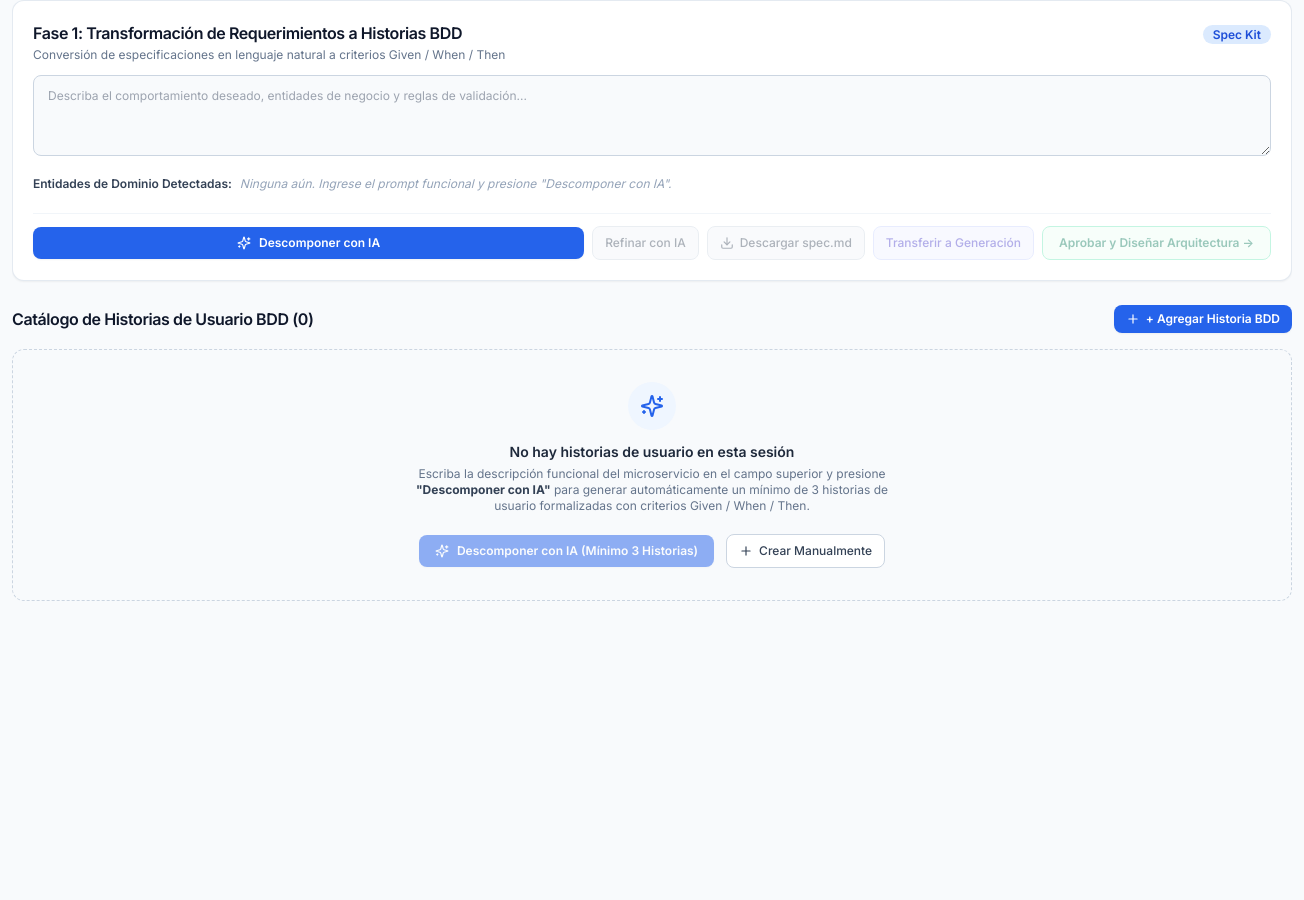
Test: Views: StudioOverview, SpecIngestion, Requirements › RequirementsView › allows manually adding a user story using Crear Manualmente button
This screenshot has width=1304, height=900.
expect the heading "No hay historias de usuario en esta sesión" is shown: met, box [510, 442, 794, 460]
Click the button "Crear Manualmente" at (806, 550), box [726, 534, 885, 568]
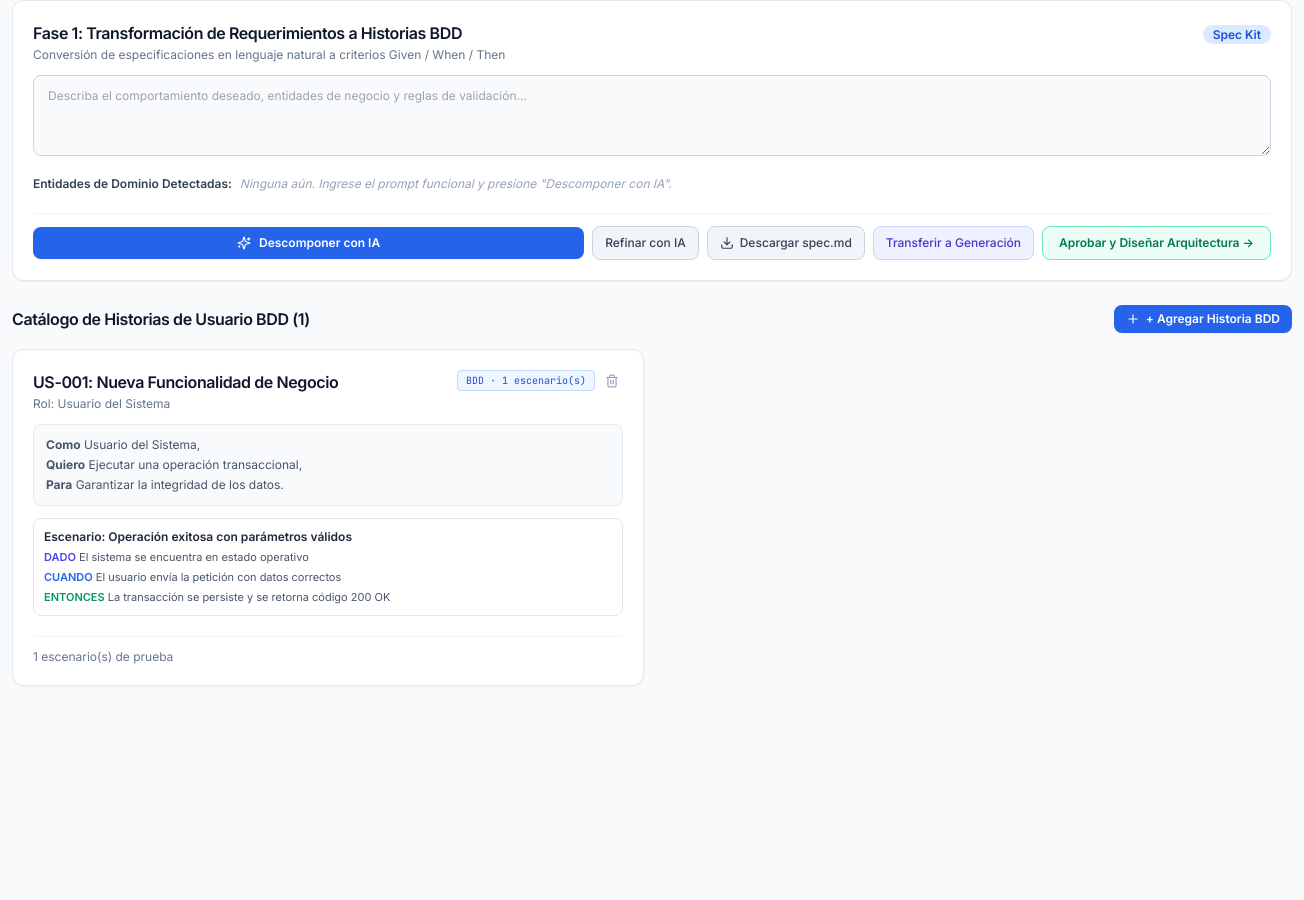
expect the heading "Catálogo de Historias de Usuario BDD (1)" is shown: met, box [12, 306, 310, 330]
expect the heading "US-001: Nueva Funcionalidad de Negocio" is shown: met, box [33, 370, 338, 394]
